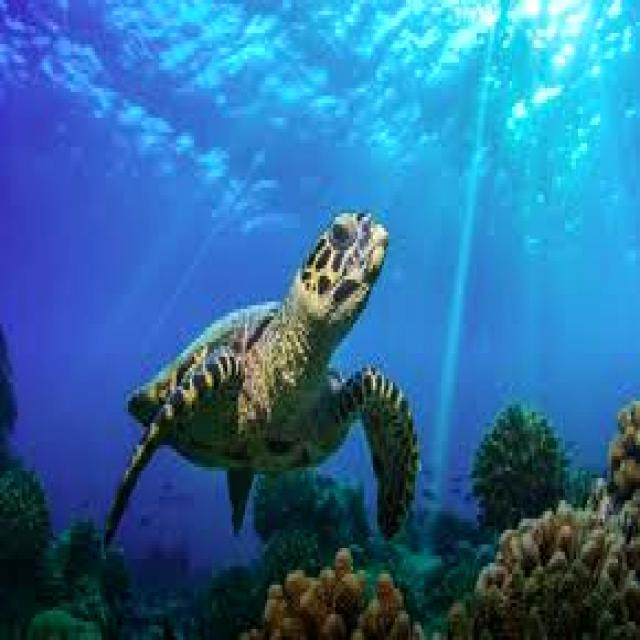Sea turtle: (104, 172, 428, 592)
